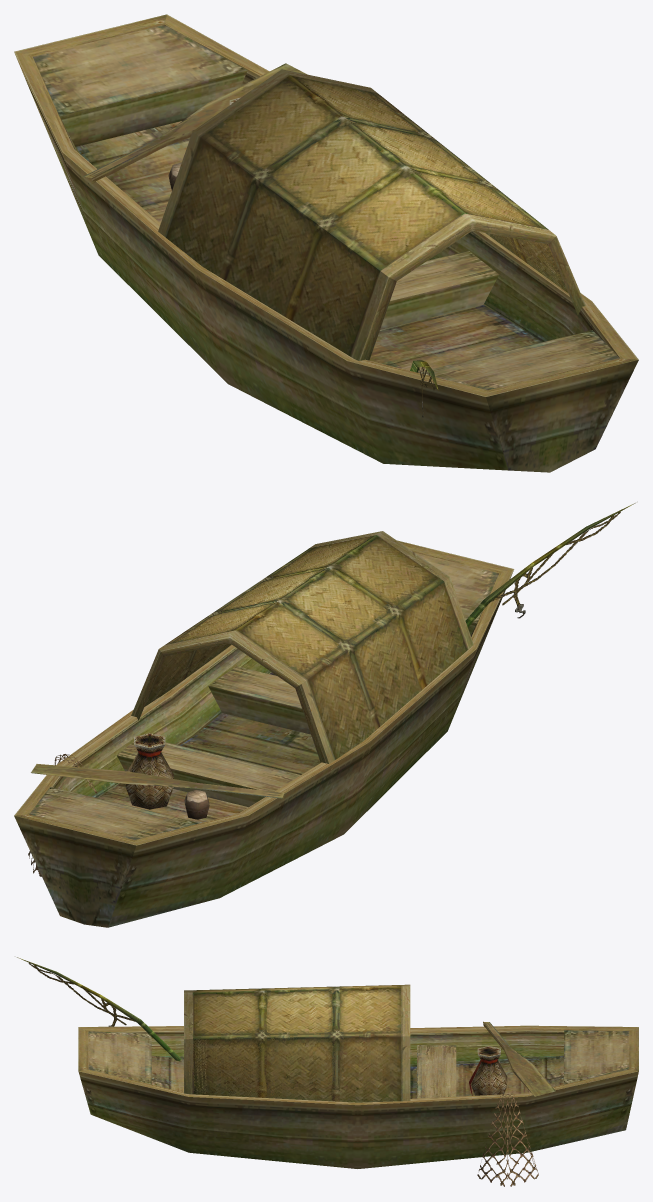
The model's file is Dingqingchuan_wujian_16_anim.FBX.
The picture shows the model from 3 angles, top to bottom: view 1: azimuth 30°, elevation 25°; view 2: azimuth 150°, elevation 25°; view 3: azimuth 270°, elevation 25°; orthographic projection. The views are drawn at different scales.
Visible parts, largest first — view 1: Bone001; view 2: Bone001; view 3: Bone001.
Boxes of the visible parts, bbox=[...] form: Bone001: bbox=[14, 14, 638, 472]; Bone001: bbox=[14, 503, 635, 927]; Bone001: bbox=[17, 957, 638, 1186].
Size of the model in its own units: 49 by 34.77 by 128.
